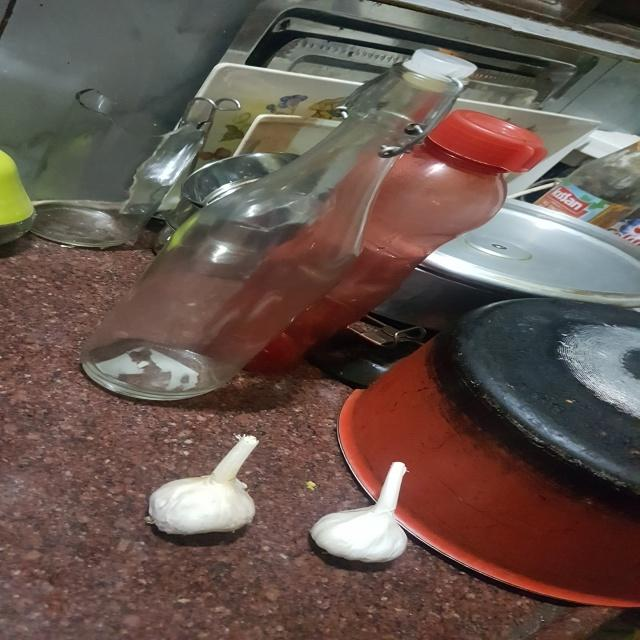garlic: (146, 430, 266, 540), (309, 456, 412, 559)
